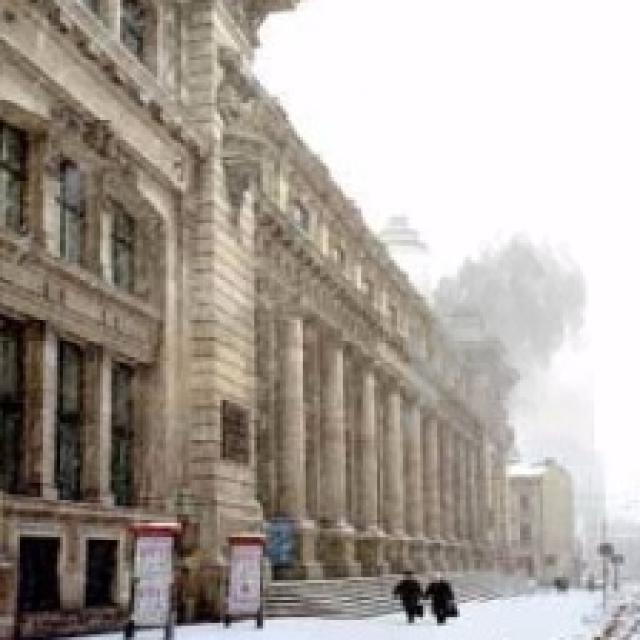Smoke: (392, 223, 594, 466)
